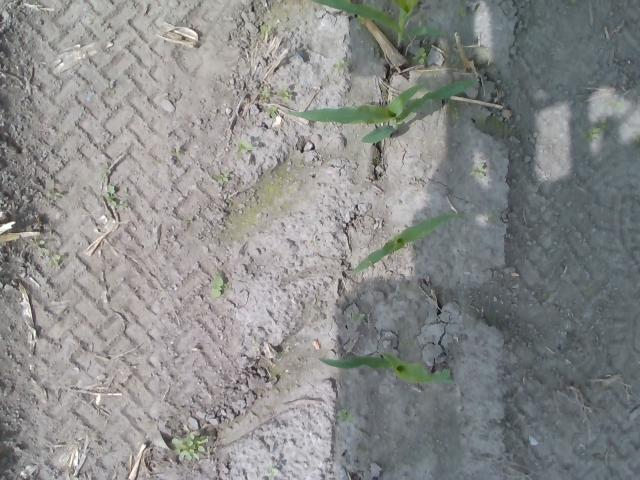Maize: (286, 79, 476, 145), (344, 208, 462, 278), (310, 0, 444, 49), (318, 354, 456, 386)
Weeds: (172, 434, 210, 464), (98, 166, 121, 208), (32, 239, 64, 268), (211, 274, 227, 298), (336, 407, 352, 422), (415, 46, 428, 64), (332, 59, 348, 72), (586, 126, 600, 140), (453, 6, 468, 19), (477, 162, 488, 178), (266, 105, 278, 119), (240, 139, 251, 154), (46, 190, 62, 200), (215, 174, 230, 184), (280, 88, 290, 102)
